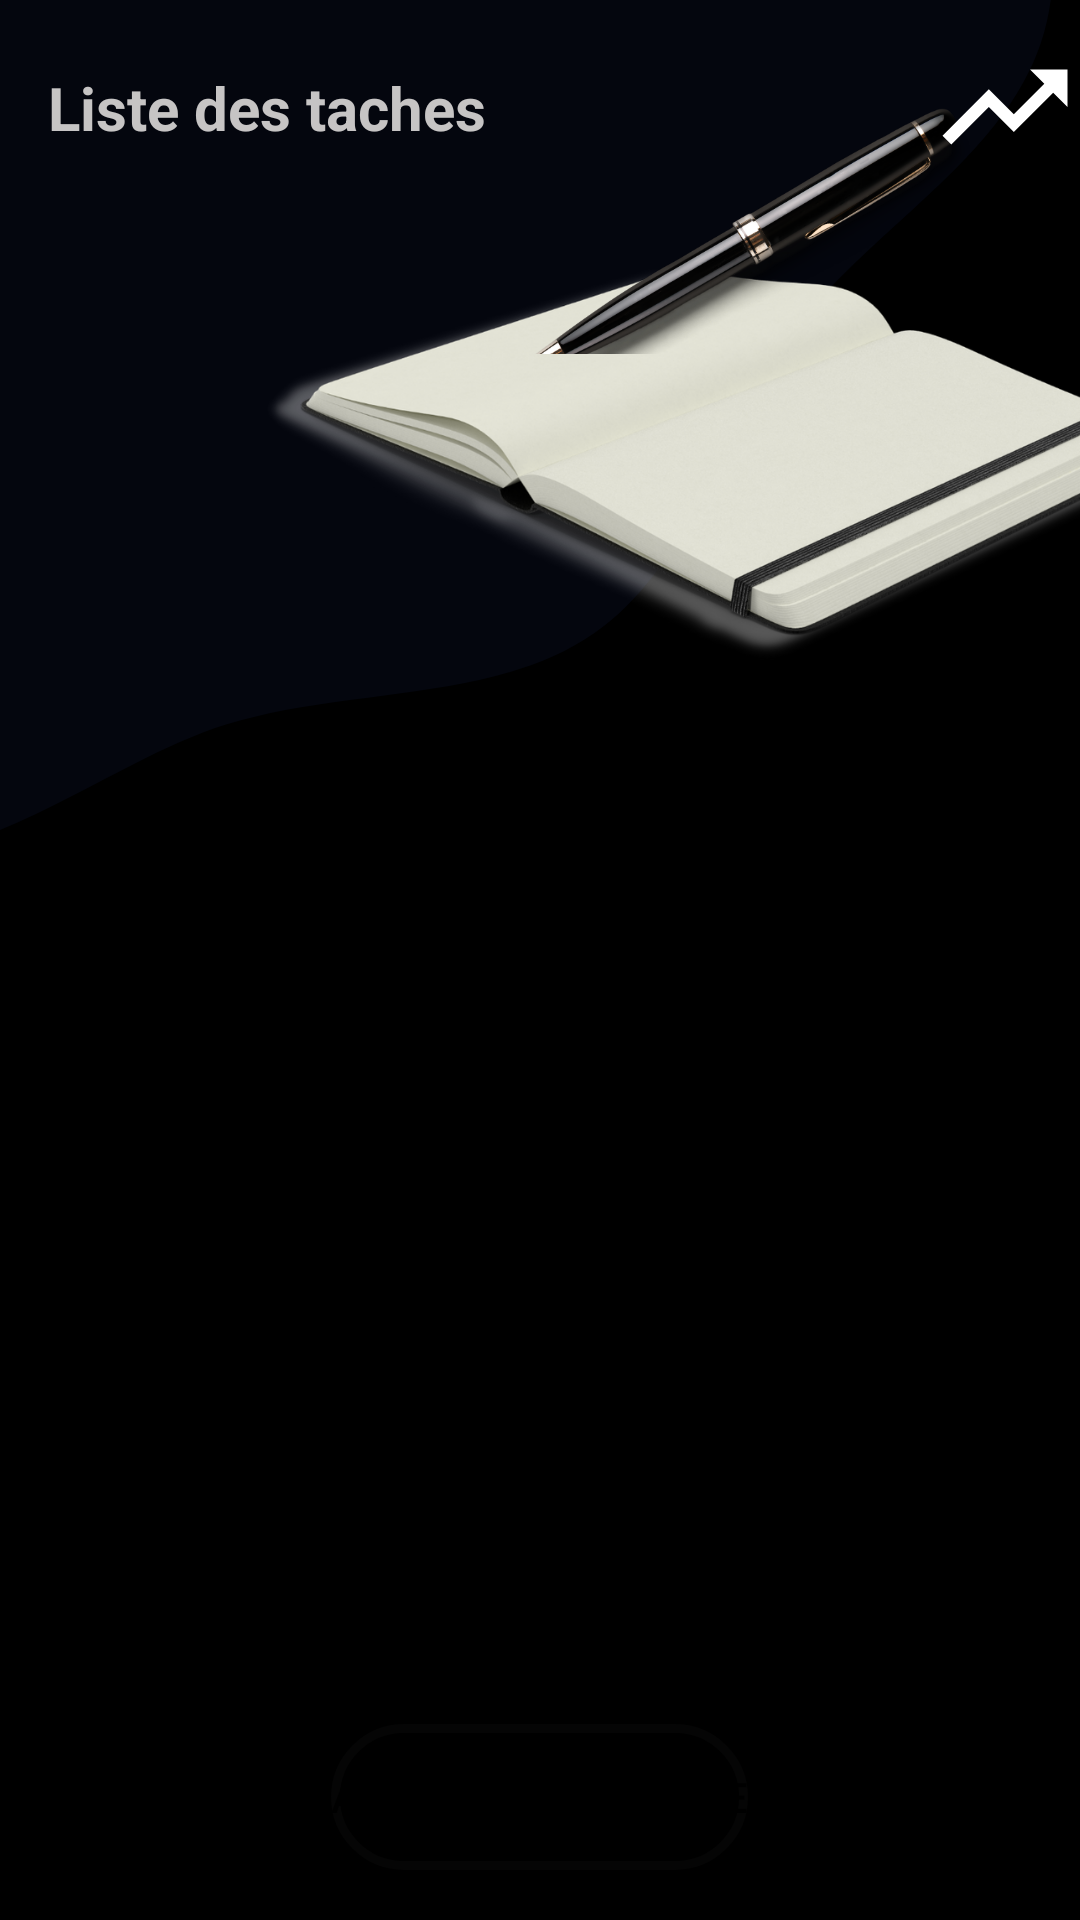

Icon click points for this 1080 x 1920 phone screenshot, format (x=x, y=y):
trad: (x=999, y=117)
